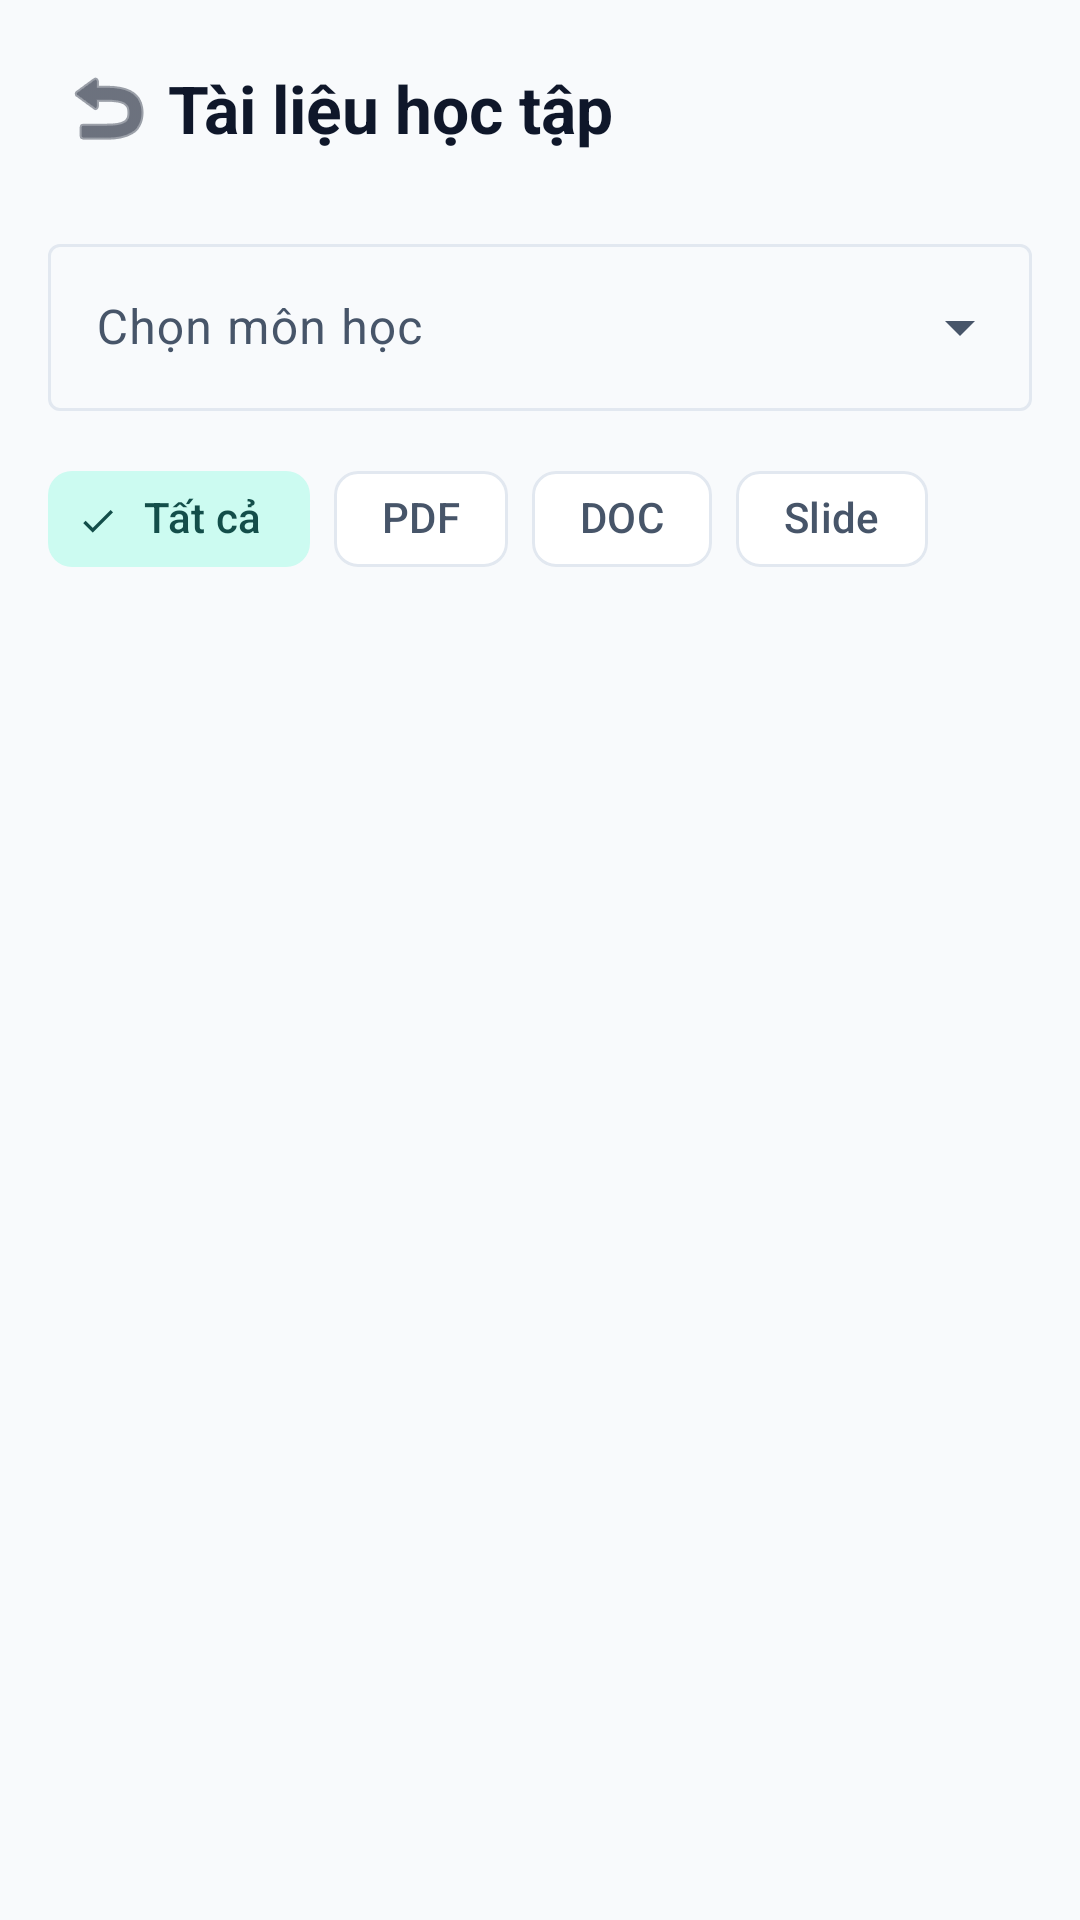

Icon click points for this 1080 × 1920 phone screenshot, format (x,y):
Quay lại: (109,108)
